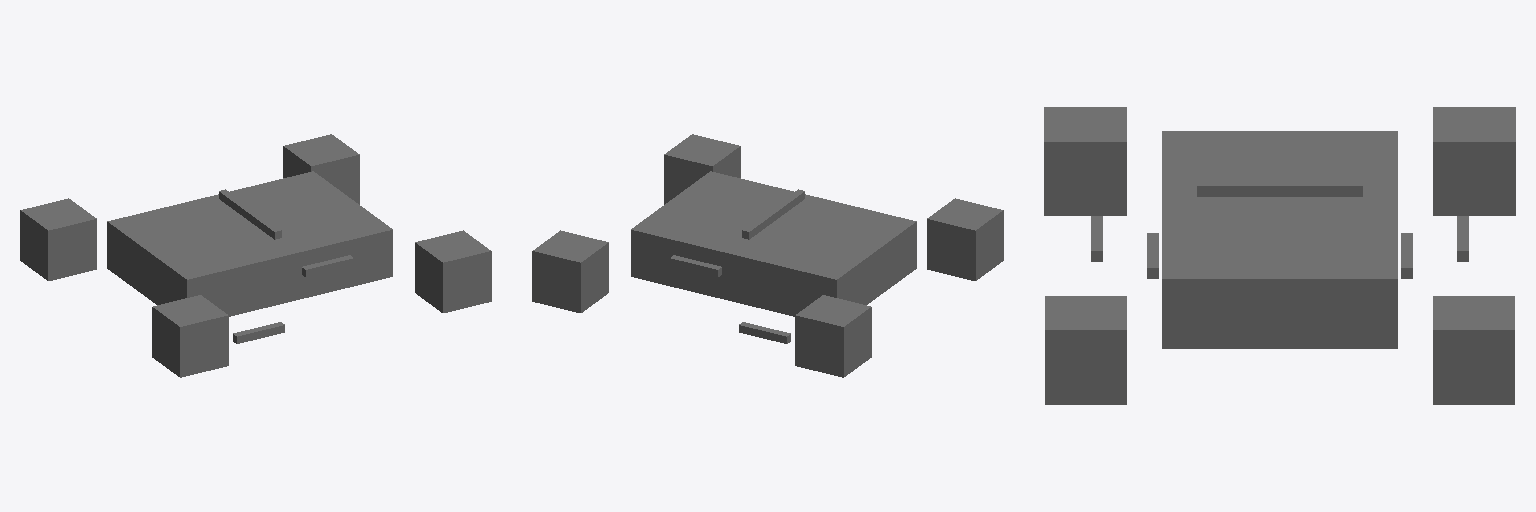
robot.urdf — curio:
<?xml version="1.0" encoding="utf-8"?>
<!-- =================================================================================== -->
<!-- |    This document was autogenerated by xacro from curio.urdf.xacro               | -->
<!-- |    EDITING THIS FILE BY HAND IS NOT RECOMMENDED                                 | -->
<!-- =================================================================================== -->
<!-- 
    Software License Agreement (BSD-3-Clause)

    Copyright (c) 2019 [author]
    All rights reserved.

    Redistribution and use in source and binary forms, with or without
    modification, are permitted provided that the following conditions
    are met:

    1.  Redistributions of source code must retain the above copyright
        notice, this list of conditions and the following disclaimer.

    2.  Redistributions in binary form must reproduce the above
        copyright notice, this list of conditions and the following
        disclaimer in the documentation and/or other materials provided
        with the distribution.

    3.  Neither the name of the copyright holder nor the names of its
        contributors may be used to endorse or promote products derived
        from this software without specific prior written permission.

    THIS SOFTWARE IS PROVIDED BY THE COPYRIGHT [author]
    "AS IS" AND ANY EXPRESS OR IMPLIED WARRANTIES, INCLUDING, BUT NOT
    LIMITED TO, THE IMPLIED WARRANTIES OF MERCHANTABILITY AND FITNESS
    FOR A PARTICULAR PURPOSE ARE DISCLAIMED. IN NO EVENT SHALL THE
    COPYRIGHT [author] LIABLE FOR ANY DIRECT, INDIRECT,
    INCIDENTAL, SPECIAL, EXEMPLARY, OR CONSEQUENTIAL DAMAGES (INCLUDING,
    BUT NOT LIMITED TO, PROCUREMENT OF SUBSTITUTE GOODS OR SERVICES;
    LOSS OF USE, DATA, OR PROFITS; OR BUSINESS INTERRUPTION) HOWEVER
    CAUSED AND ON ANY THEORY OF LIABILITY, WHETHER IN CONTRACT, STRICT
    LIABILITY, OR TORT (INCLUDING NEGLIGENCE OR OTHERWISE) ARISING IN
    ANY WAY OUT OF THE USE OF THIS SOFTWARE, EVEN IF ADVISED OF THE
    POSSIBILITY OF SUCH DAMAGE.
-->
<!-- Robot description for Curio, a Sawppy Rover robot.

 -->
<robot name="curio" xmlns:xacro="http://ros.org/wiki/xacro">
  <material name="red">
    <color rgba="0.8 0 0 1"/>
  </material>
  <material name="green">
    <color rgba="0 0.8 0 1"/>
  </material>
  <material name="blue">
    <color rgba="0 0 0.8 1"/>
  </material>
  <material name="orange">
    <color rgba="0.8 0.25 0 1"/>
  </material>
  <material name="black">
    <color rgba="0 0 0 1"/>
  </material>
  <material name="dark_gray">
    <color rgba="0.5 0.5 0.5 1"/>
  </material>
  <material name="gray">
    <color rgba="0.753 0.753 0.753 1"/>
  </material>
  <material name="silver">
    <color rgba="0.88 0.88 0.88 1"/>
  </material>
  <material name="white">
    <color rgba="1 1 1 1"/>
  </material>
  <!-- Gazebo plugins -->
  <gazebo>
    <!-- ROS Control 

            Resources:
                https://answers.ros.org/question/292444/gazebo_ros_control-plugin-gazeboroscontrolplugin-missing-legacymodens-defaultrobothwsim/
        -->
    <plugin filename="libgazebo_ros_control.so" name="gazebo_ros_control">
      <robotNamespace>/</robotNamespace>
      <robotSimType>gazebo_ros_control/DefaultRobotHWSim</robotSimType>
      <legacyModeNS>false</legacyModeNS>
    </plugin>
    <!-- Publish state of passive joints
        
            Resources:
                http://answers.gazebosim.org/question/13844/getting-joint-angles-for-passive-urdf-model/
         -->
    <plugin filename="libgazebo_ros_joint_state_publisher.so" name="gazebo_ros_joint_state_publisher">
      <robotNamespace>/</robotNamespace>
      <jointName>
                left_rocker_joint, right_rocker_joint,
                front_left_corner_joint, front_right_corner_joint,
                front_left_wheel_joint, front_right_wheel_joint,
                left_bogie_joint, right_bogie_joint,
                mid_left_wheel_joint, mid_right_wheel_joint,
                back_left_corner_joint, back_right_corner_joint,
                back_left_wheel_joint, back_right_wheel_joint
            </jointName>
      <updateRate>50</updateRate>
      <alwaysOn>true</alwaysOn>
    </plugin>
  </gazebo>
  <!-- The base link - the reference link for the entire model -->
  <link name="base_link">
    <visual>
      <origin rpy="0 0 0" xyz="0 0 0"/>
      <geometry>
        <box size="0.001 0.001 0.001"/>
      </geometry>
      <material name="orange"/>
    </visual>
    <collision>
      <origin rpy="0 0 0" xyz="0 0 0"/>
      <geometry>
        <box size="0.001 0.001 0.001"/>
      </geometry>
    </collision>
    <inertial>
      <mass value="0.01"/>
      <inertia ixx="0.01" ixy="0" ixz="0" iyy="0.01" iyz="0" izz="0.01"/>
    </inertial>
  </link>
  <gazebo reference="base_link">
    <material>Gazebo/Orange</material>
  </gazebo>
  <link name="body_box_link">
    <visual>
      <origin rpy="0 0 0" xyz="0 0 0"/>
      <geometry>
        <box size="0.425 0.285 0.093"/>
      </geometry>
      <material name="dark_gray"/>
    </visual>
    <collision>
      <origin rpy="0 0 0" xyz="0 0 0"/>
      <geometry>
        <box size="0.425 0.285 0.093"/>
      </geometry>
    </collision>
    <inertial>
      <origin rpy="0 0 0" xyz="0 0 0"/>
      <mass value="0.5"/>
      <inertia ixx="0.00374475" ixy="0.0" ixz="0.0" iyy="0.00788641666667" iyz="0.0" izz="0.0109104166667"/>
    </inertial>
  </link>
  <gazebo reference="body_box_link">
    <material>Gazebo/DarkGray</material>
  </gazebo>
  <joint name="body_box_joint" type="fixed">
    <origin rpy="0 0 0" xyz="0 0 0"/>
    <parent link="base_link"/>
    <child link="body_box_link"/>
  </joint>
  <gazebo reference="body_box_joint">
    <disableFixedJointLumping>true</disableFixedJointLumping>
    <preserveFixedJoint>true</preserveFixedJoint>
  </gazebo>
  <!-- TODO: Implementing the differential is tricky
    
        URDF does not support closed loops in the robot description,
        on the other hand SDF for Gazebo does.
    -->
  <link name="diff_brace_link">
    <visual>
      <origin rpy="0 0 1.57079632679" xyz="0 0 0"/>
      <geometry>
        <box size="0.200 0.015 0.015"/>
      </geometry>
      <material name="dark_gray"/>
    </visual>
    <collision>
      <origin rpy="0 0 1.57079632679" xyz="0 0 0"/>
      <geometry>
        <box size="0.200 0.015 0.015"/>
      </geometry>
    </collision>
    <inertial>
      <origin rpy="0 0 1.57079632679" xyz="0 0 0"/>
      <mass value="0.1"/>
      <inertia ixx="3.75e-06" ixy="0.0" ixz="0.0" iyy="0.000335208333333" iyz="0.0" izz="0.000335208333333"/>
    </inertial>
  </link>
  <gazebo reference="diff_brace_link">
    <material>Gazebo/DarkGray</material>
  </gazebo>
  <joint name="diff_brace_joint" type="continuous">
    <origin rpy="0 0 0" xyz="0 0 0.0681"/>
    <axis xyz="0 0 1"/>
    <parent link="base_link"/>
    <child link="diff_brace_link"/>
  </joint>
  <gazebo reference="diff_brace_joint">
    <provideFeedback>true</provideFeedback>
  </gazebo>
  <!-- Gazebo only links & joints connecting the differential brace to the rockers -->
  <gazebo>
    <link name="left_turnbuckle_link">
      <visual name="left_turnbuckle_link_visual">
        <geometry>
          <box>
            <size>0.07 0.005 0.005</size>
          </box>
        </geometry>
      </visual>
      <collision name="left_turnbuckle_link_collision">
        <geometry>
          <box>
            <size>0.07 0.005 0.005</size>
          </box>
        </geometry>
      </collision>
      <inertial>
        <mass>0.01</mass>
        <inertia>
          <ixx>0.0001</ixx>
          <ixy>0</ixy>
          <ixz>0</ixz>
          <iyy>0.0001</iyy>
          <iyz>0</iyz>
          <izz>0.0001</izz>
        </inertia>
      </inertial>
    </link>
    <joint name="left_turnbuckle_rocker_joint" type="ball">
      <pose>0 0 0 0 0 0</pose>
      <parent>left_rocker_link</parent>
      <child>left_turnbuckle_link</child>
    </joint>
    <!-- <joint name="left_turnbuckle_diff_joint" type="ball">
            <pose>0 0.170 0 0 0 0</pose>
            <parent>diff_brace_link</parent> 
            <child>left_turnbuckle_link</child> 
        </joint> -->
    <link name="right_turnbuckle_link">
      <visual name="right_turnbuckle_link_visual">
        <geometry>
          <box>
            <size>0.07 0.005 0.005</size>
          </box>
        </geometry>
      </visual>
      <collision name="right_turnbuckle_link_collision">
        <geometry>
          <box>
            <size>0.07 0.005 0.005</size>
          </box>
        </geometry>
      </collision>
      <inertial>
        <mass>0.01</mass>
        <inertia>
          <ixx>0.0001</ixx>
          <ixy>0</ixy>
          <ixz>0</ixz>
          <iyy>0.0001</iyy>
          <iyz>0</iyz>
          <izz>0.0001</izz>
        </inertia>
      </inertial>
    </link>
    <joint name="right_turnbuckle_rocker_joint" type="ball">
      <pose>0 0 0 0 0 0</pose>
      <parent>right_rocker_link</parent>
      <child>right_turnbuckle_link</child>
    </joint>
    <!-- <joint name="right_turnbuckle_diff_joint" type="ball">
            <pose>0 -0.170 0 0 0 0</pose>
            <parent>diff_brace_link</parent> 
            <child>right_turnbuckle_link</child> 
        </joint> -->
  </gazebo>
  <link name="left_rocker_link">
    <visual>
      <origin rpy="0 0 0" xyz="0 0 0"/>
      <geometry>
        <box size="0.1 0.015 0.015"/>
      </geometry>
      <material name="dark_gray"/>
    </visual>
    <collision>
      <origin rpy="0 0 0" xyz="0 0 0"/>
      <geometry>
        <box size="0.1 0.015 0.015"/>
      </geometry>
    </collision>
    <inertial>
      <origin rpy="0 0 0" xyz="0 0 0"/>
      <mass value="0.1"/>
      <inertia ixx="3.75e-06" ixy="0.0" ixz="0.0" iyy="8.52083333333e-05" iyz="0.0" izz="8.52083333333e-05"/>
    </inertial>
  </link>
  <gazebo reference="left_rocker_link">
    <material>Gazebo/DarkGray</material>
  </gazebo>
  <link name="right_rocker_link">
    <visual>
      <origin rpy="0 0 0" xyz="0 0 0"/>
      <geometry>
        <box size="0.1 0.015 0.015"/>
      </geometry>
      <material name="dark_gray"/>
    </visual>
    <collision>
      <origin rpy="0 0 0" xyz="0 0 0"/>
      <geometry>
        <box size="0.1 0.015 0.015"/>
      </geometry>
    </collision>
    <inertial>
      <origin rpy="0 0 0" xyz="0 0 0"/>
      <mass value="0.1"/>
      <inertia ixx="3.75e-06" ixy="0.0" ixz="0.0" iyy="8.52083333333e-05" iyz="0.0" izz="8.52083333333e-05"/>
    </inertial>
  </link>
  <gazebo reference="right_rocker_link">
    <material>Gazebo/DarkGray</material>
  </gazebo>
  <joint name="left_rocker_joint" type="continuous">
    <origin rpy="0 0 0" xyz="0.071 0.154 0.0118"/>
    <axis xyz="0 1 0"/>
    <parent link="base_link"/>
    <child link="left_rocker_link"/>
  </joint>
  <gazebo reference="left_rocker_joint">
    <provideFeedback>true</provideFeedback>
  </gazebo>
  <joint name="right_rocker_joint" type="continuous">
    <origin rpy="0 0 0" xyz="0.071 -0.154 0.0118"/>
    <axis xyz="0 1 0"/>
    <parent link="base_link"/>
    <child link="right_rocker_link"/>
  </joint>
  <gazebo reference="right_rocker_joint">
    <provideFeedback>true</provideFeedback>
  </gazebo>
  <link name="front_left_corner_link">
    <visual>
      <origin rpy="0 0 0" xyz="0 0 0"/>
      <geometry>
        <box size="0.1 0.1 0.1"/>
      </geometry>
      <material name="dark_gray"/>
    </visual>
    <collision>
      <origin rpy="0 0 0" xyz="0 0 0"/>
      <geometry>
        <box size="0.1 0.1 0.1"/>
      </geometry>
    </collision>
    <inertial>
      <origin rpy="0 0 0" xyz="0 0 0"/>
      <mass value="0.1"/>
      <inertia ixx="0.000166666666667" ixy="0.0" ixz="0.0" iyy="0.000166666666667" iyz="0.0" izz="0.000166666666667"/>
    </inertial>
  </link>
  <gazebo reference="front_left_corner_link">
    <material>Gazebo/DarkGray</material>
  </gazebo>
  <link name="front_right_corner_link">
    <visual>
      <origin rpy="0 0 0" xyz="0 0 0"/>
      <geometry>
        <box size="0.1 0.1 0.1"/>
      </geometry>
      <material name="dark_gray"/>
    </visual>
    <collision>
      <origin rpy="0 0 0" xyz="0 0 0"/>
      <geometry>
        <box size="0.1 0.1 0.1"/>
      </geometry>
    </collision>
    <inertial>
      <origin rpy="0 0 0" xyz="0 0 0"/>
      <mass value="0.1"/>
      <inertia ixx="0.000166666666667" ixy="0.0" ixz="0.0" iyy="0.000166666666667" iyz="0.0" izz="0.000166666666667"/>
    </inertial>
  </link>
  <gazebo reference="front_right_corner_link">
    <material>Gazebo/DarkGray</material>
  </gazebo>
  <joint name="front_left_corner_joint" type="continuous">
    <origin rpy="0 0 0" xyz="0.2116 0.081 -0.0279"/>
    <axis xyz="0 0 1"/>
    <parent link="left_rocker_link"/>
    <child link="front_left_corner_link"/>
  </joint>
  <gazebo reference="front_left_corner_joint">
    <provideFeedback>true</provideFeedback>
  </gazebo>
  <joint name="front_right_corner_joint" type="continuous">
    <origin rpy="0 0 0" xyz="0.2116 -0.081 -0.0279"/>
    <axis xyz="0 0 1"/>
    <parent link="right_rocker_link"/>
    <child link="front_right_corner_link"/>
  </joint>
  <gazebo reference="front_right_corner_joint">
    <provideFeedback>true</provideFeedback>
  </gazebo>
  <link name="front_left_wheel_link">
    <visual>
      <origin rpy="1.57079632679 0 0" xyz="0 0 0"/>
      <geometry>
        <mesh filename="package://curio_description/meshes/wheels/wheel.stl"/>
      </geometry>
      <material name="dark_gray"/>
    </visual>
    <collision>
      <origin rpy="1.57079632679 0 0" xyz="0 0 0"/>
      <geometry>
        <cylinder length="0.1" radius="0.06"/>
      </geometry>
    </collision>
    <inertial>
      <origin rpy="0 0 0" xyz="0 0 0"/>
      <mass value="0.1"/>
      <inertia ixx="0.000173333333333" ixy="0.0" ixz="0.0" iyy="0.000173333333333" iyz="0.0" izz="0.00018"/>
    </inertial>
  </link>
  <gazebo reference="front_left_wheel_link">
    <material>Gazebo/DarkGray</material>
  </gazebo>
  <link name="front_right_wheel_link">
    <visual>
      <origin rpy="-1.57079632679 0 0" xyz="0 0 0"/>
      <geometry>
        <mesh filename="package://curio_description/meshes/wheels/wheel.stl"/>
      </geometry>
      <material name="dark_gray"/>
    </visual>
    <collision>
      <origin rpy="-1.57079632679 0 0" xyz="0 0 0"/>
      <geometry>
        <cylinder length="0.1" radius="0.06"/>
      </geometry>
    </collision>
    <inertial>
      <origin rpy="0 0 0" xyz="0 0 0"/>
      <mass value="0.1"/>
      <inertia ixx="0.000173333333333" ixy="0.0" ixz="0.0" iyy="0.000173333333333" iyz="0.0" izz="0.00018"/>
    </inertial>
  </link>
  <gazebo reference="front_right_wheel_link">
    <material>Gazebo/DarkGray</material>
  </gazebo>
  <joint name="front_left_wheel_joint" type="continuous">
    <origin rpy="0 0 0" xyz="0 0 -0.132"/>
    <axis xyz="0 1 0"/>
    <parent link="front_left_corner_link"/>
    <child link="front_left_wheel_link"/>
  </joint>
  <gazebo reference="front_left_wheel_joint">
    <provideFeedback>true</provideFeedback>
  </gazebo>
  <joint name="front_right_wheel_joint" type="continuous">
    <origin rpy="0 0 0" xyz="0 0 -0.132"/>
    <axis xyz="0 1 0"/>
    <parent link="front_right_corner_link"/>
    <child link="front_right_wheel_link"/>
  </joint>
  <gazebo reference="front_right_wheel_joint">
    <provideFeedback>true</provideFeedback>
  </gazebo>
  <link name="left_bogie_link">
    <visual>
      <origin rpy="0 0 0" xyz="0 0 0"/>
      <geometry>
        <box size="0.1 0.015 0.015"/>
      </geometry>
      <material name="dark_gray"/>
    </visual>
    <collision>
      <origin rpy="0 0 0" xyz="0 0 0"/>
      <geometry>
        <box size="0.1 0.015 0.015"/>
      </geometry>
    </collision>
    <inertial>
      <origin rpy="0 0 0" xyz="0 0 0"/>
      <mass value="0.1"/>
      <inertia ixx="3.75e-06" ixy="0.0" ixz="0.0" iyy="8.52083333333e-05" iyz="0.0" izz="8.52083333333e-05"/>
    </inertial>
  </link>
  <gazebo reference="left_bogie_link">
    <material>Gazebo/DarkGray</material>
  </gazebo>
  <link name="right_bogie_link">
    <visual>
      <origin rpy="0 0 0" xyz="0 0 0"/>
      <geometry>
        <box size="0.1 0.015 0.015"/>
      </geometry>
      <material name="dark_gray"/>
    </visual>
    <collision>
      <origin rpy="0 0 0" xyz="0 0 0"/>
      <geometry>
        <box size="0.1 0.015 0.015"/>
      </geometry>
    </collision>
    <inertial>
      <origin rpy="0 0 0" xyz="0 0 0"/>
      <mass value="0.1"/>
      <inertia ixx="3.75e-06" ixy="0.0" ixz="0.0" iyy="8.52083333333e-05" iyz="0.0" izz="8.52083333333e-05"/>
    </inertial>
  </link>
  <gazebo reference="right_bogie_link">
    <material>Gazebo/DarkGray</material>
  </gazebo>
  <joint name="left_bogie_joint" type="continuous">
    <origin rpy="0 0 0" xyz="-0.181 0.0675 -0.062"/>
    <axis xyz="0 1 0"/>
    <parent link="left_rocker_link"/>
    <child link="left_bogie_link"/>
  </joint>
  <gazebo reference="left_bogie_joint">
    <provideFeedback>true</provideFeedback>
  </gazebo>
  <joint name="right_bogie_joint" type="continuous">
    <origin rpy="0 0 0" xyz="-0.181 -0.0675 -0.062"/>
    <axis xyz="0 1 0"/>
    <parent link="right_rocker_link"/>
    <child link="right_bogie_link"/>
  </joint>
  <gazebo reference="right_bogie_joint">
    <provideFeedback>true</provideFeedback>
  </gazebo>
  <link name="mid_left_wheel_link">
    <visual>
      <origin rpy="1.57079632679 0 0" xyz="0 0 0"/>
      <geometry>
        <mesh filename="package://curio_description/meshes/wheels/wheel.stl"/>
      </geometry>
      <material name="dark_gray"/>
    </visual>
    <collision>
      <origin rpy="1.57079632679 0 0" xyz="0 0 0"/>
      <geometry>
        <cylinder length="0.1" radius="0.06"/>
      </geometry>
    </collision>
    <inertial>
      <origin rpy="0 0 0" xyz="0 0 0"/>
      <mass value="0.1"/>
      <inertia ixx="0.000173333333333" ixy="0.0" ixz="0.0" iyy="0.000173333333333" iyz="0.0" izz="0.00018"/>
    </inertial>
  </link>
  <gazebo reference="mid_left_wheel_link">
    <material>Gazebo/DarkGray</material>
  </gazebo>
  <link name="mid_right_wheel_link">
    <visual>
      <origin rpy="-1.57079632679 0 0" xyz="0 0 0"/>
      <geometry>
        <mesh filename="package://curio_description/meshes/wheels/wheel.stl"/>
      </geometry>
      <material name="dark_gray"/>
    </visual>
    <collision>
      <origin rpy="-1.57079632679 0 0" xyz="0 0 0"/>
      <geometry>
        <cylinder length="0.1" radius="0.06"/>
      </geometry>
    </collision>
    <inertial>
      <origin rpy="0 0 0" xyz="0 0 0"/>
      <mass value="0.1"/>
      <inertia ixx="0.000173333333333" ixy="0.0" ixz="0.0" iyy="0.000173333333333" iyz="0.0" izz="0.00018"/>
    </inertial>
  </link>
  <gazebo reference="mid_right_wheel_link">
    <material>Gazebo/DarkGray</material>
  </gazebo>
  <joint name="mid_left_wheel_joint" type="continuous">
    <origin rpy="0 0 0" xyz="0.1063 0.0929 -0.0959"/>
    <axis xyz="0 1 0"/>
    <parent link="left_bogie_link"/>
    <child link="mid_left_wheel_link"/>
  </joint>
  <gazebo reference="mid_left_wheel_joint">
    <provideFeedback>true</provideFeedback>
  </gazebo>
  <joint name="mid_right_wheel_joint" type="continuous">
    <origin rpy="0 0 0" xyz="0.1063 -0.0929 -0.0959"/>
    <axis xyz="0 1 0"/>
    <parent link="right_bogie_link"/>
    <child link="mid_right_wheel_link"/>
  </joint>
  <gazebo reference="mid_right_wheel_joint">
    <provideFeedback>true</provideFeedback>
  </gazebo>
  <link name="back_left_corner_link">
    <visual>
      <origin rpy="0 0 0" xyz="0 0 0"/>
      <geometry>
        <box size="0.1 0.1 0.1"/>
      </geometry>
      <material name="dark_gray"/>
    </visual>
    <collision>
      <origin rpy="0 0 0" xyz="0 0 0"/>
      <geometry>
        <box size="0.1 0.1 0.1"/>
      </geometry>
    </collision>
    <inertial>
      <origin rpy="0 0 0" xyz="0 0 0"/>
      <mass value="0.1"/>
      <inertia ixx="0.000166666666667" ixy="0.0" ixz="0.0" iyy="0.000166666666667" iyz="0.0" izz="0.000166666666667"/>
    </inertial>
  </link>
  <gazebo reference="back_left_corner_link">
    <material>Gazebo/DarkGray</material>
  </gazebo>
  <link name="back_right_corner_link">
    <visual>
      <origin rpy="0 0 0" xyz="0 0 0"/>
      <geometry>
        <box size="0.1 0.1 0.1"/>
      </geometry>
      <material name="dark_gray"/>
    </visual>
    <collision>
      <origin rpy="0 0 0" xyz="0 0 0"/>
      <geometry>
        <box size="0.1 0.1 0.1"/>
      </geometry>
    </collision>
    <inertial>
      <origin rpy="0 0 0" xyz="0 0 0"/>
      <mass value="0.1"/>
      <inertia ixx="0.000166666666667" ixy="0.0" ixz="0.0" iyy="0.000166666666667" iyz="0.0" izz="0.000166666666667"/>
    </inertial>
  </link>
  <gazebo reference="back_right_corner_link">
    <material>Gazebo/DarkGray</material>
  </gazebo>
  <joint name="back_left_corner_joint" type="continuous">
    <origin rpy="0 0 0" xyz="-0.149 0.0136 0.0338"/>
    <axis xyz="0 0 1"/>
    <parent link="left_bogie_link"/>
    <child link="back_left_corner_link"/>
  </joint>
  <gazebo reference="back_left_corner_joint">
    <provideFeedback>true</provideFeedback>
  </gazebo>
  <joint name="back_right_corner_joint" type="continuous">
    <origin rpy="0 0 0" xyz="-0.149 -0.0136 0.0338"/>
    <axis xyz="0 0 1"/>
    <parent link="right_bogie_link"/>
    <child link="back_right_corner_link"/>
  </joint>
  <gazebo reference="back_right_corner_joint">
    <provideFeedback>true</provideFeedback>
  </gazebo>
  <link name="back_left_wheel_link">
    <visual>
      <origin rpy="1.57079632679 0 0" xyz="0 0 0"/>
      <geometry>
        <mesh filename="package://curio_description/meshes/wheels/wheel.stl"/>
      </geometry>
      <material name="dark_gray"/>
    </visual>
    <collision>
      <origin rpy="1.57079632679 0 0" xyz="0 0 0"/>
      <geometry>
        <cylinder length="0.1" radius="0.06"/>
      </geometry>
    </collision>
    <inertial>
      <origin rpy="0 0 0" xyz="0 0 0"/>
      <mass value="0.1"/>
      <inertia ixx="0.000173333333333" ixy="0.0" ixz="0.0" iyy="0.000173333333333" iyz="0.0" izz="0.00018"/>
    </inertial>
  </link>
  <gazebo reference="back_left_wheel_link">
    <material>Gazebo/DarkGray</material>
  </gazebo>
  <link name="back_right_wheel_link">
    <visual>
      <origin rpy="-1.57079632679 0 0" xyz="0 0 0"/>
      <geometry>
        <mesh filename="package://curio_description/meshes/wheels/wheel.stl"/>
      </geometry>
      <material name="dark_gray"/>
    </visual>
    <collision>
      <origin rpy="-1.57079632679 0 0" xyz="0 0 0"/>
      <geometry>
        <cylinder length="0.1" radius="0.06"/>
      </geometry>
    </collision>
    <inertial>
      <origin rpy="0 0 0" xyz="0 0 0"/>
      <mass value="0.1"/>
      <inertia ixx="0.000173333333333" ixy="0.0" ixz="0.0" iyy="0.000173333333333" iyz="0.0" izz="0.00018"/>
    </inertial>
  </link>
  <gazebo reference="back_right_wheel_link">
    <material>Gazebo/DarkGray</material>
  </gazebo>
  <joint name="back_left_wheel_joint" type="continuous">
    <origin rpy="0 0 0" xyz="0 0 -0.132"/>
    <axis xyz="0 1 0"/>
    <parent link="back_left_corner_link"/>
    <child link="back_left_wheel_link"/>
  </joint>
  <gazebo reference="back_left_wheel_joint">
    <provideFeedback>true</provideFeedback>
  </gazebo>
  <joint name="back_right_wheel_joint" type="continuous">
    <origin rpy="0 0 0" xyz="0 0 -0.132"/>
    <axis xyz="0 1 0"/>
    <parent link="back_right_corner_link"/>
    <child link="back_right_wheel_link"/>
  </joint>
  <gazebo reference="back_right_wheel_joint">
    <provideFeedback>true</provideFeedback>
  </gazebo>
</robot>

--- Render facts (derived) ---
The picture shows the robot from 3 angles, left to right: view 1: azimuth 30°, elevation 25°; view 2: azimuth 150°, elevation 25°; view 3: azimuth 270°, elevation 25°; orthographic projection.
Model curio with 17 links and 16 joints (15 continuous, 1 fixed), rooted at base_link, posed all joints at 0.
Links seen in each view (by area): view 1: body_box_link, back_left_corner_link, front_right_corner_link, back_right_corner_link, front_left_corner_link, diff_brace_link, right_bogie_link, right_rocker_link; view 2: body_box_link, back_right_corner_link, front_left_corner_link, back_left_corner_link, front_right_corner_link, diff_brace_link, left_bogie_link, left_rocker_link; view 3: body_box_link, back_left_corner_link, back_right_corner_link, front_left_corner_link, front_right_corner_link, diff_brace_link, left_rocker_link, right_rocker_link, left_bogie_link, right_bogie_link.
Boxes of the visible links, bbox=[...] form: body_box_link: bbox=[107, 171, 392, 316]; back_left_corner_link: bbox=[20, 198, 96, 280]; front_right_corner_link: bbox=[415, 230, 491, 312]; back_right_corner_link: bbox=[152, 295, 228, 377]; front_left_corner_link: bbox=[283, 134, 359, 204]; diff_brace_link: bbox=[219, 189, 281, 239]; right_bogie_link: bbox=[233, 322, 284, 343]; right_rocker_link: bbox=[302, 255, 353, 276]; body_box_link: bbox=[631, 171, 916, 316]; back_right_corner_link: bbox=[927, 198, 1003, 280]; front_left_corner_link: bbox=[532, 230, 608, 312]; back_left_corner_link: bbox=[795, 295, 871, 377]; front_right_corner_link: bbox=[664, 134, 740, 204]; diff_brace_link: bbox=[742, 189, 804, 239]; left_bogie_link: bbox=[739, 322, 790, 343]; left_rocker_link: bbox=[670, 255, 721, 276]; body_box_link: bbox=[1162, 131, 1397, 348]; back_left_corner_link: bbox=[1433, 107, 1515, 215]; back_right_corner_link: bbox=[1044, 107, 1126, 215]; front_left_corner_link: bbox=[1433, 296, 1514, 404]; front_right_corner_link: bbox=[1045, 296, 1126, 404]; diff_brace_link: bbox=[1197, 180, 1362, 196]; left_rocker_link: bbox=[1401, 233, 1412, 278]; right_rocker_link: bbox=[1147, 233, 1158, 278]; left_bogie_link: bbox=[1457, 216, 1468, 261]; right_bogie_link: bbox=[1091, 216, 1102, 261].
Bounding box of the posed robot: 0.6416 × 0.5702 × 0.142 m (x, y, z).
0 mesh visuals loaded from 1 distinct referenced files (none loaded); not drawn: 6 (reference not matched to a file when rendering).